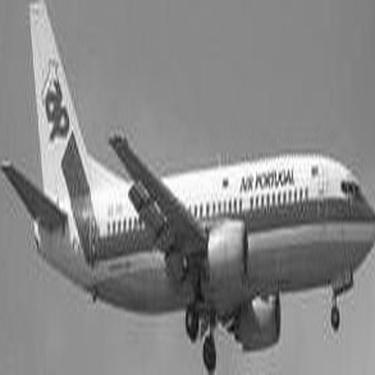airplane: (22, 1, 360, 364)
